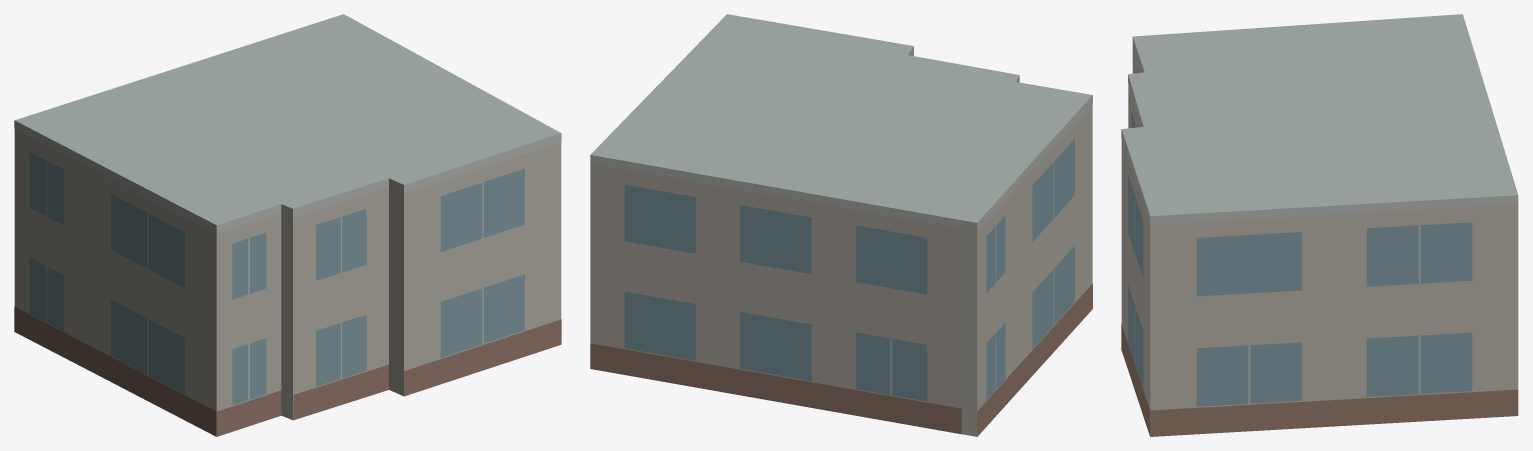
Rendered from survey-upis-32687753.glb.
The picture shows the model from 3 angles, left to right: view 1: azimuth 30°, elevation 25°; view 2: azimuth 150°, elevation 25°; view 3: azimuth 270°, elevation 25°; orthographic projection. The views are drawn at different scales.
Parts seen in each view (by area): view 1: survey-upis-32687753.tmp; view 2: survey-upis-32687753.tmp; view 3: survey-upis-32687753.tmp.
Boxes of the visible parts, box(x1,y1,x2,y2) form: survey-upis-32687753.tmp: box(14, 14, 561, 436); survey-upis-32687753.tmp: box(590, 14, 1092, 436); survey-upis-32687753.tmp: box(1121, 14, 1518, 436).
Bounding box in the file's own units: 12 × 6.1 × 9.95.
